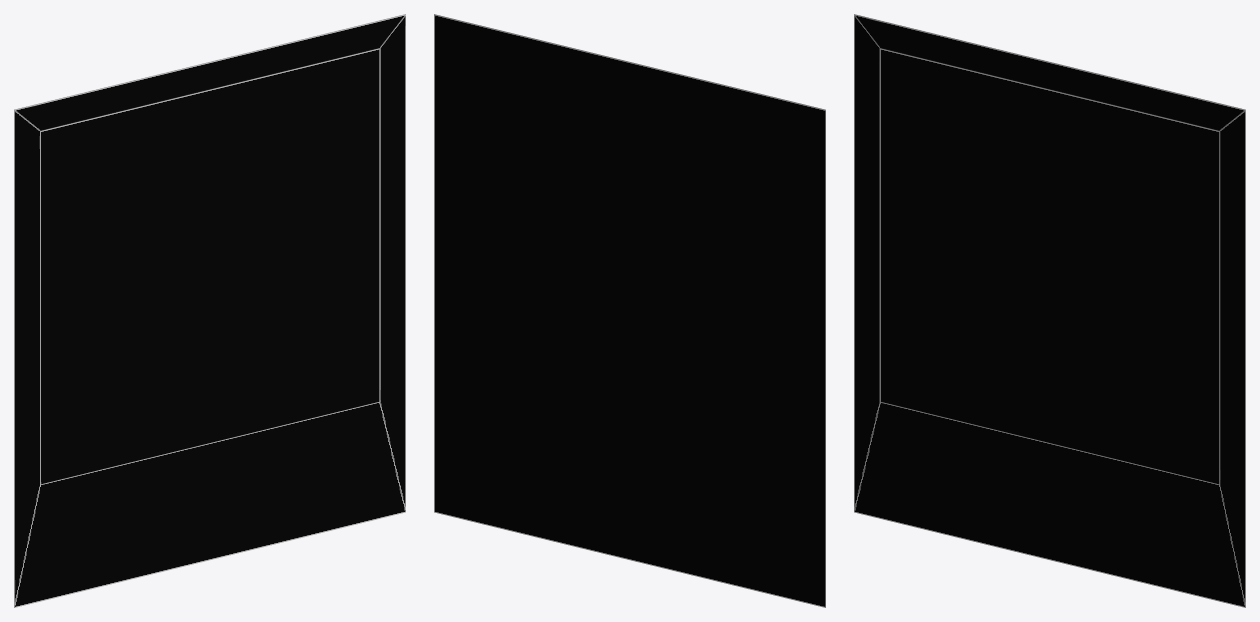
Rendered from Polaroid.FBX.
3 views of the same model, side by side, from view 1: azimuth 30°, elevation 25°; view 2: azimuth 150°, elevation 25°; view 3: azimuth 330°, elevation 25° (orthographic).
Parts seen in each view (by area): view 1: Plane001; view 2: Plane001; view 3: Plane001.
Part boxes in pixels (x1,y1,x2,y2): Plane001: (14, 14, 405, 607); Plane001: (434, 14, 825, 607); Plane001: (854, 14, 1245, 607).
Bounding box in the file's own units: 34.65 × 42.13 × 0.0367.
